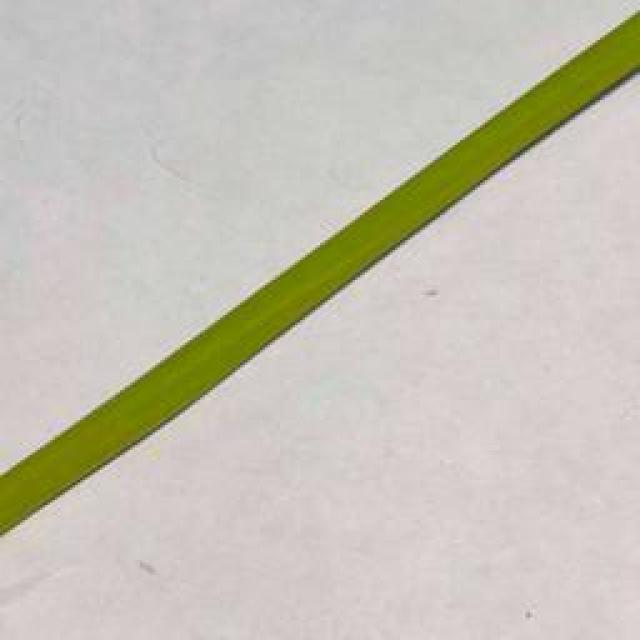Healthy-Plant: (0, 3, 640, 538)
